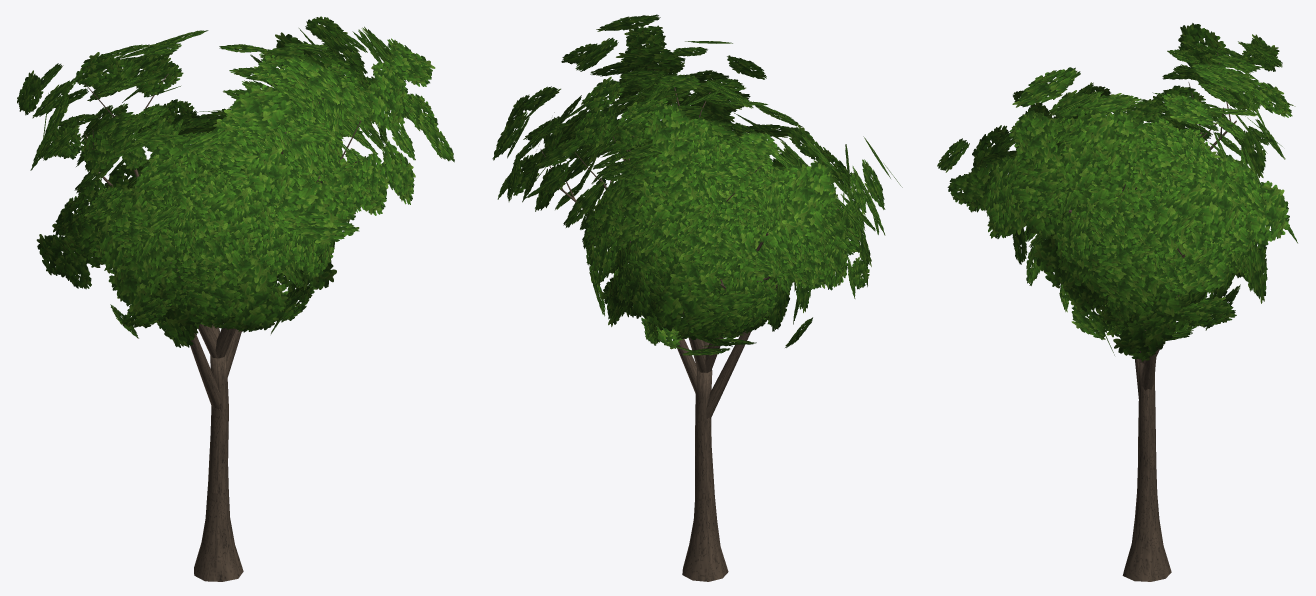
Rendered from tree_elm.glb.
3 views of the same model, side by side, from view 1: azimuth 30°, elevation 25°; view 2: azimuth 150°, elevation 25°; view 3: azimuth 270°, elevation 25° (orthographic). The views are drawn at different scales.
Visible parts, largest first — view 1: tree_elm; view 2: tree_elm; view 3: tree_elm.
Boxes of the visible parts, bbox=[...] form: tree_elm: bbox=[17, 16, 454, 581]; tree_elm: bbox=[492, 14, 902, 581]; tree_elm: bbox=[937, 23, 1297, 581].
Size of the model in its own units: 9.34 by 13.03 by 8.3.
Materials: 2 (2 with a texture image).
